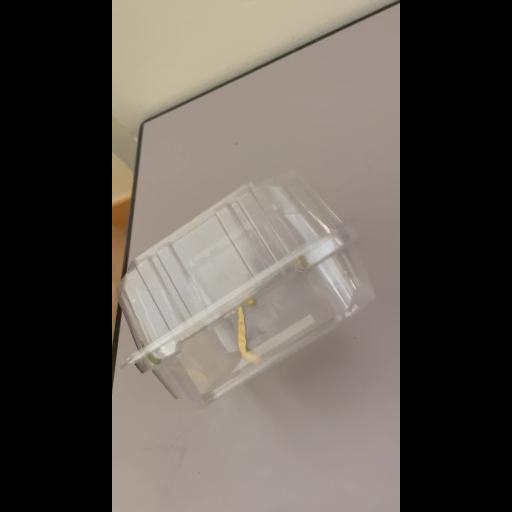small_plastic_container: (112, 174, 376, 404)
